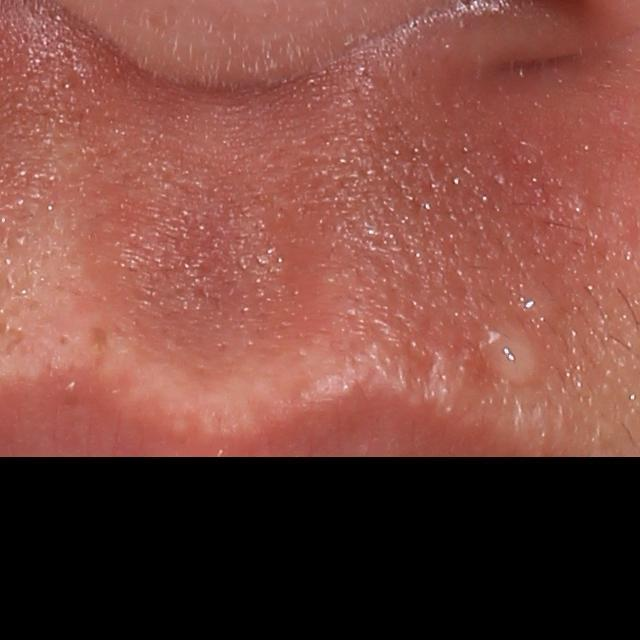other: (471, 315, 564, 401)
